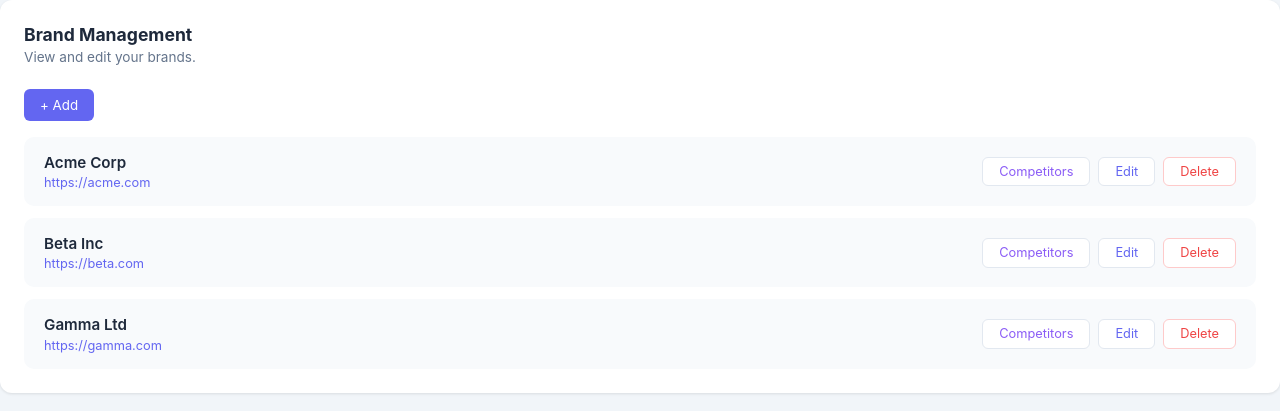
Test: BrandManagement — Brand CRUD › deletes brand and shows success banner
Expected: the text "Gamma Ltd" is shown, [44,315,127,334]
Click the button "Delete" in the row of "https://gamma.com" at (1200, 334), box [1163,319,1236,349]
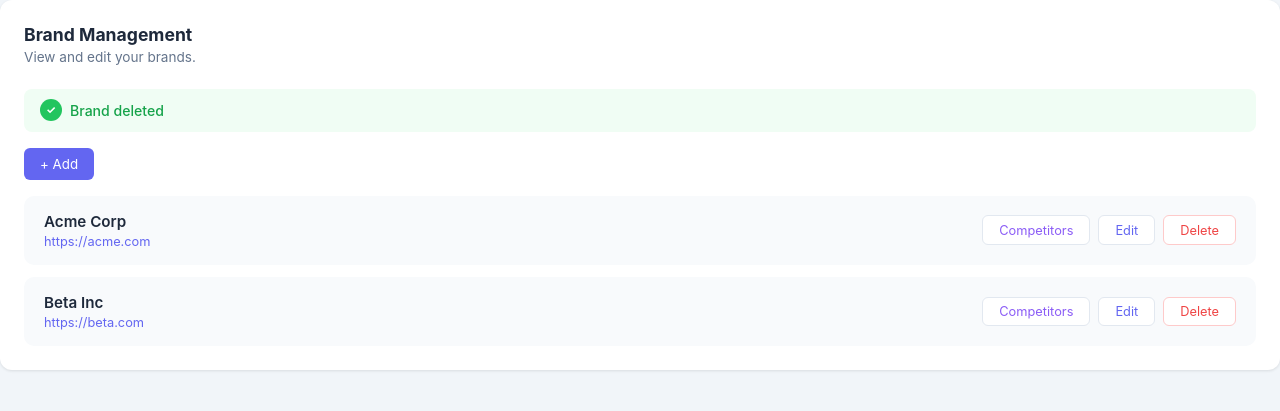
Now the text "✓ Brand deleted" is shown, box [24,89,1256,132]
Now the text "Gamma Ltd" is gone
